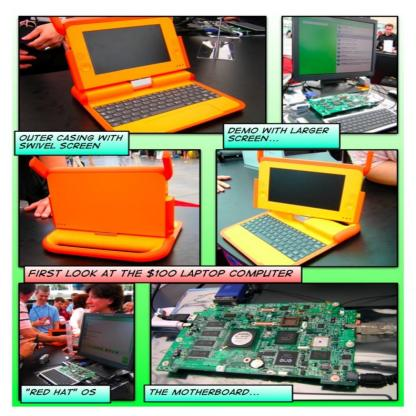board: (53, 5, 246, 135), (25, 150, 186, 264), (219, 150, 374, 267)
